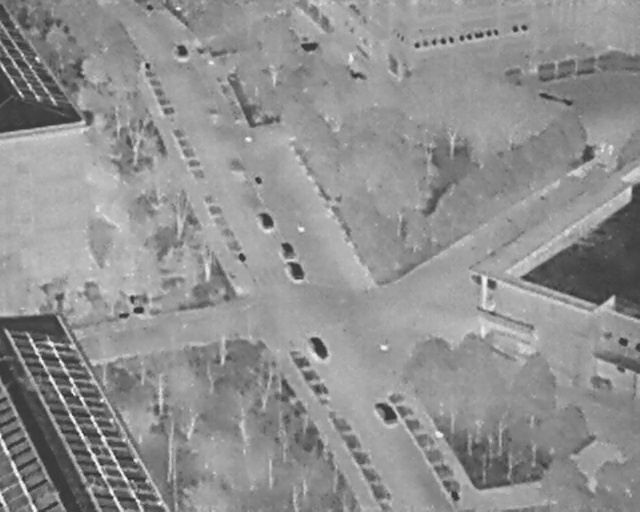Car: (373, 397, 400, 428), (307, 333, 331, 362), (287, 257, 306, 283), (258, 210, 275, 232), (279, 239, 296, 260), (175, 43, 188, 59)
